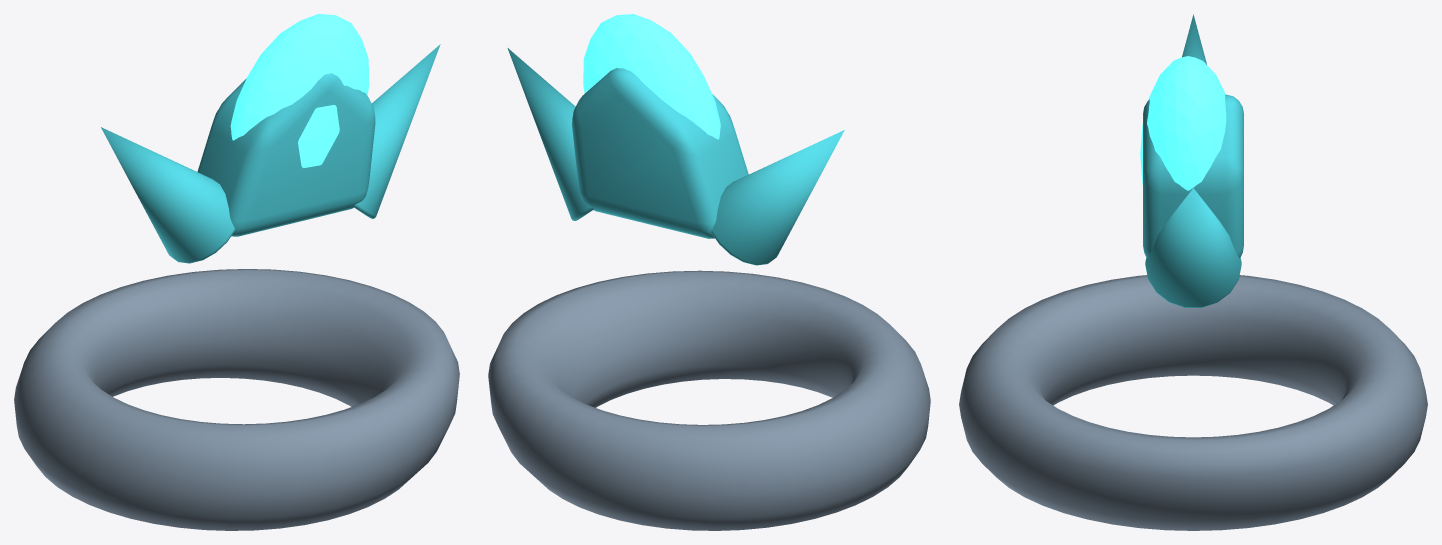
The model's file is ring_v4.glb.
3 renders of one model, left to right at view 1: azimuth 30°, elevation 25°; view 2: azimuth 150°, elevation 25°; view 3: azimuth 270°, elevation 25°, orthographic. The views are drawn at different scales.
Parts seen in each view (by area): view 1: RING_BAND_PRIMARY, RING_SETTING_ACCENT, RING_GEM_EMISSIVE, SWEPT_FIN_ACCENT, SWEPT_FIN_ACCENT.001; view 2: RING_BAND_PRIMARY, RING_SETTING_ACCENT, SWEPT_FIN_ACCENT, RING_GEM_EMISSIVE, SWEPT_FIN_ACCENT.001; view 3: RING_BAND_PRIMARY, RING_GEM_EMISSIVE, SWEPT_FIN_ACCENT.001, RING_SETTING_ACCENT, SWEPT_FIN_ACCENT.
Boxes of the visible parts, x1=… form: RING_BAND_PRIMARY: x1=14, y1=269, x2=459, y2=530; RING_SETTING_ACCENT: x1=197, y1=73, x2=375, y2=236; RING_GEM_EMISSIVE: x1=230, y1=14, x2=369, y2=167; SWEPT_FIN_ACCENT: x1=101, y1=127, x2=234, y2=263; SWEPT_FIN_ACCENT.001: x1=353, y1=44, x2=440, y2=218; RING_BAND_PRIMARY: x1=488, y1=270, x2=930, y2=530; RING_SETTING_ACCENT: x1=572, y1=68, x2=748, y2=238; SWEPT_FIN_ACCENT: x1=711, y1=130, x2=844, y2=265; RING_GEM_EMISSIVE: x1=583, y1=14, x2=720, y2=139; SWEPT_FIN_ACCENT.001: x1=507, y1=48, x2=593, y2=220; RING_BAND_PRIMARY: x1=959, y1=275, x2=1427, y2=530; RING_GEM_EMISSIVE: x1=1140, y1=56, x2=1226, y2=190; SWEPT_FIN_ACCENT.001: x1=1145, y1=188, x2=1241, y2=307; RING_SETTING_ACCENT: x1=1143, y1=94, x2=1243, y2=258; SWEPT_FIN_ACCENT: x1=1182, y1=14, x2=1206, y2=64.
Size of the model in its own units: 1.55 by 1.55 by 1.51.
